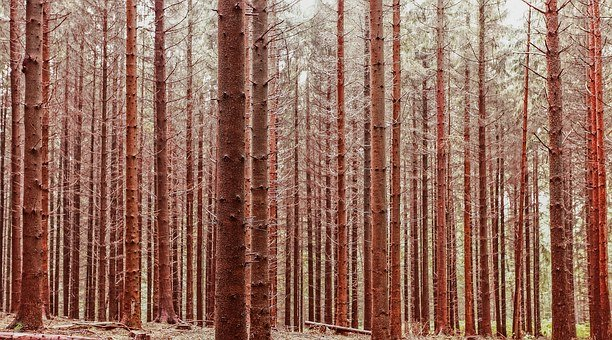forest: (10, 4, 612, 337)
tree: (498, 1, 612, 335), (319, 4, 398, 324), (3, 1, 82, 320), (89, 1, 168, 320), (195, 1, 274, 320)
